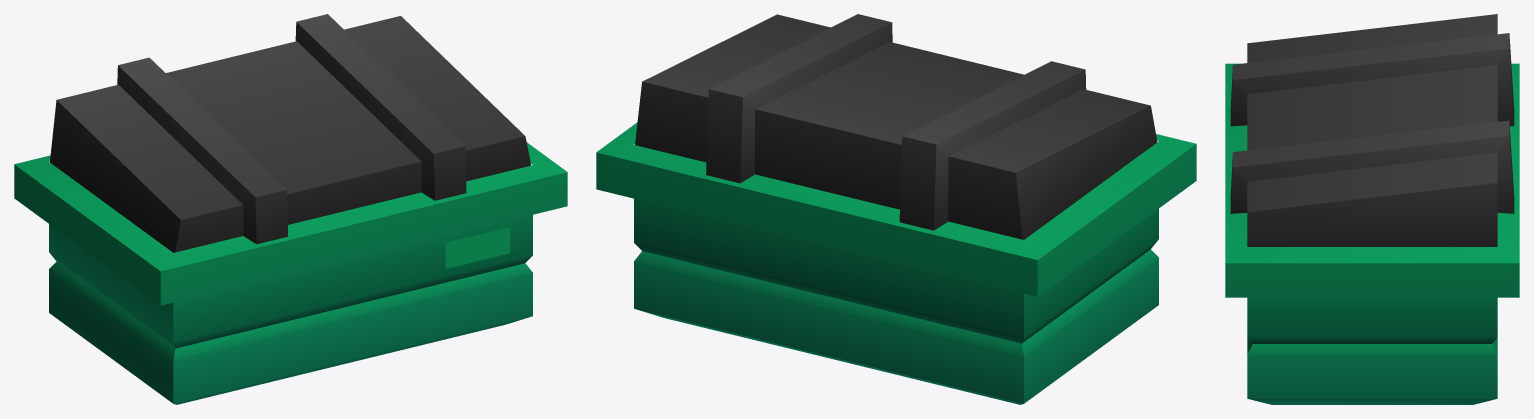
File: Dumpster.glb
The picture shows the model from 3 angles, left to right: view 1: azimuth 30°, elevation 25°; view 2: azimuth 150°, elevation 25°; view 3: azimuth 270°, elevation 25°; orthographic projection. The views are drawn at different scales.
Parts seen in each view (by area): view 1: dumpster; view 2: dumpster; view 3: dumpster.
Boxes of the visible parts, <box> form: dumpster: <box>14,14,567,404</box>; dumpster: <box>596,14,1196,404</box>; dumpster: <box>1225,14,1519,404</box>.
Bounding box in the file's own units: 0.5659 × 0.3173 × 0.3528.
Materials: 1 (1 with a texture image).
